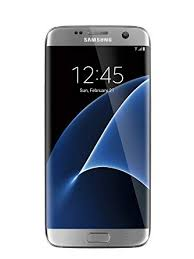samsung: (40, 22, 152, 251)
